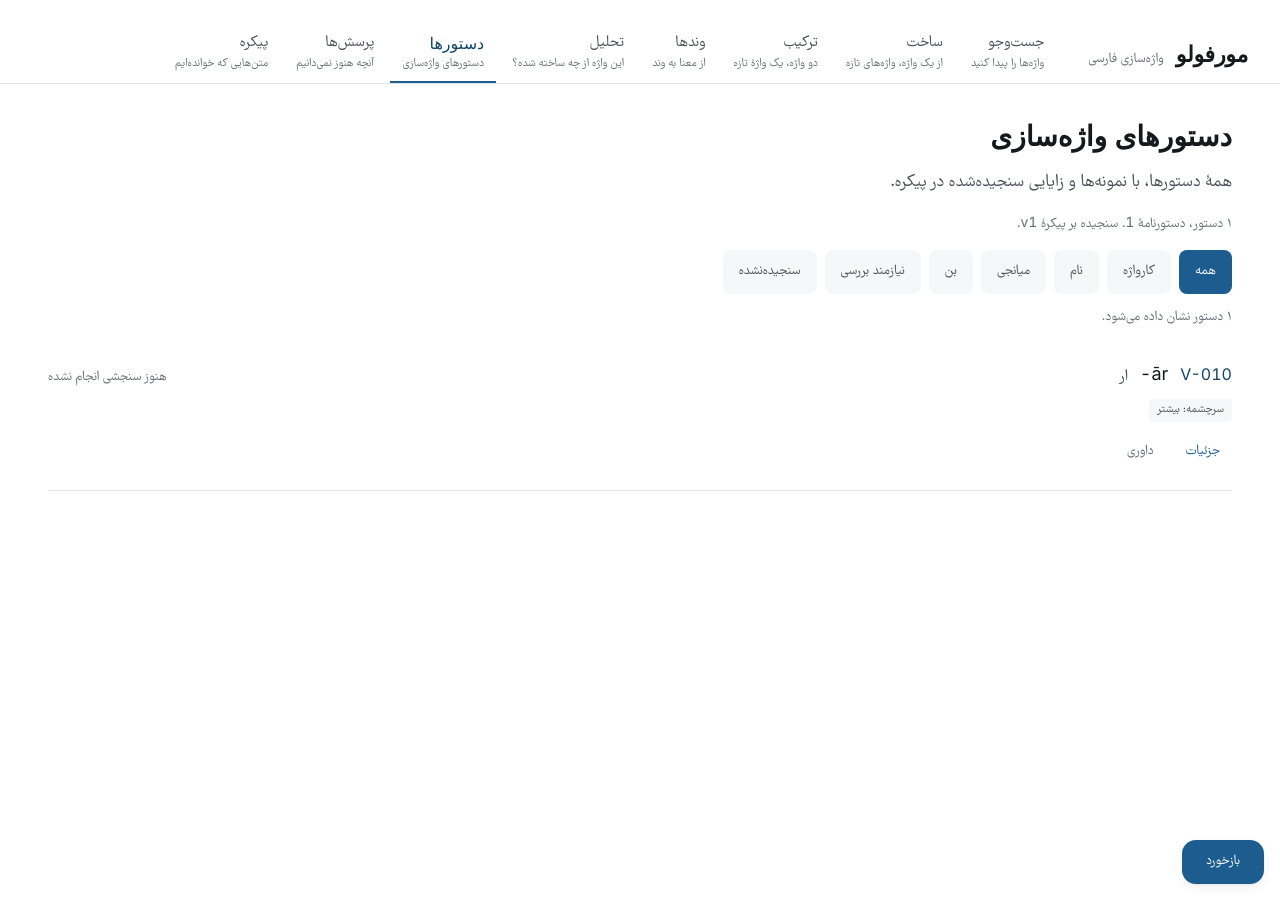
Test: when the caller may grade a word › chooses the category first and the form adapts
Click the button with aria-label "داوری دربارهٔ دستور V-010".
click(1140, 452)  # box [1115,430,1166,474]
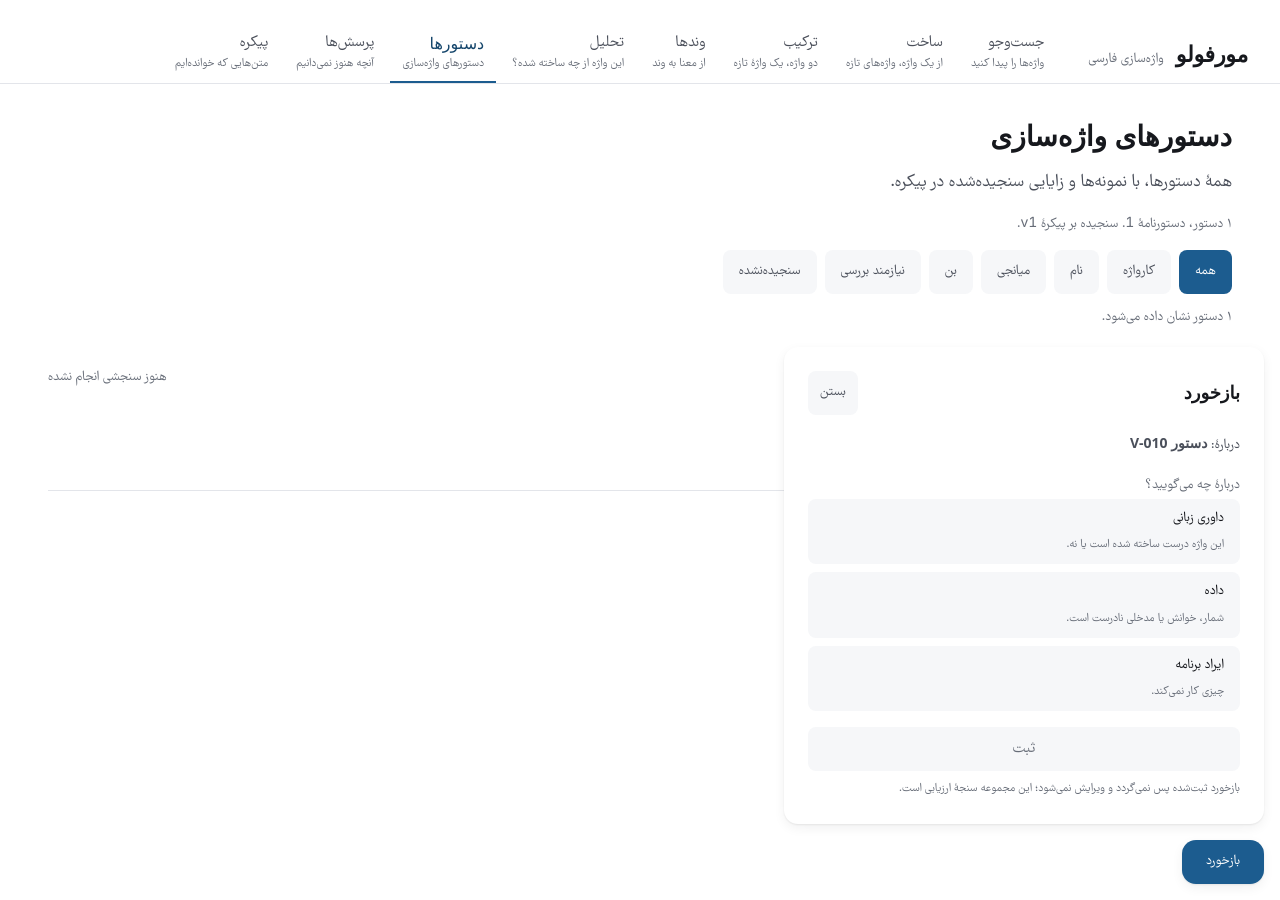
Check: the text "نیاز به گفت‌وگو" is not shown
Click the button "داوری زبانی این واژه درست ساخته شده است یا نه.".
click(1198, 518)  # box [808,498,1240,564]
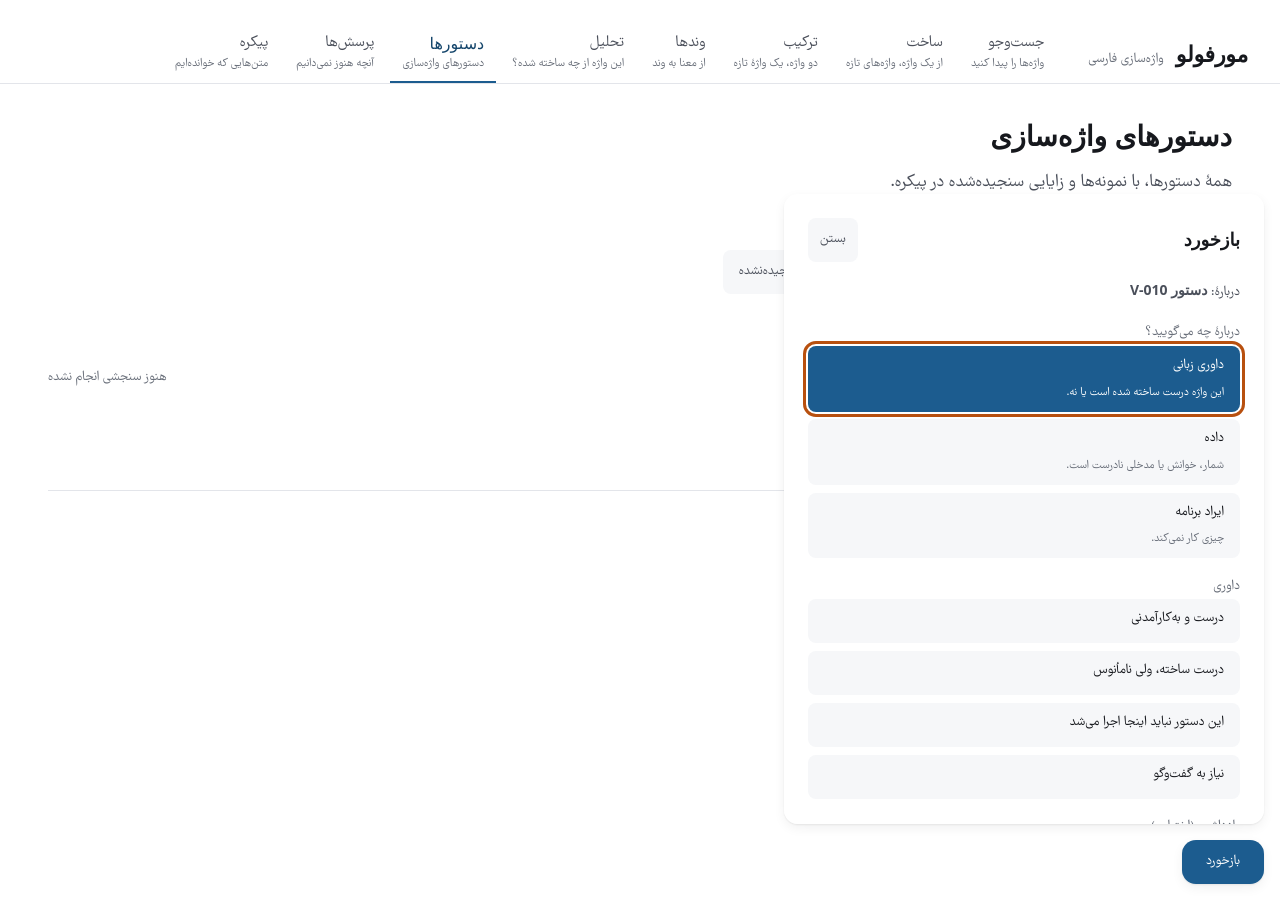
Check: the button "نیاز به گفت‌وگو" is shown, box [808,755,1240,799]
Click the button "ایراد برنامه چیزی کار نمی‌کند.".
click(1200, 512)  # box [808,493,1240,558]
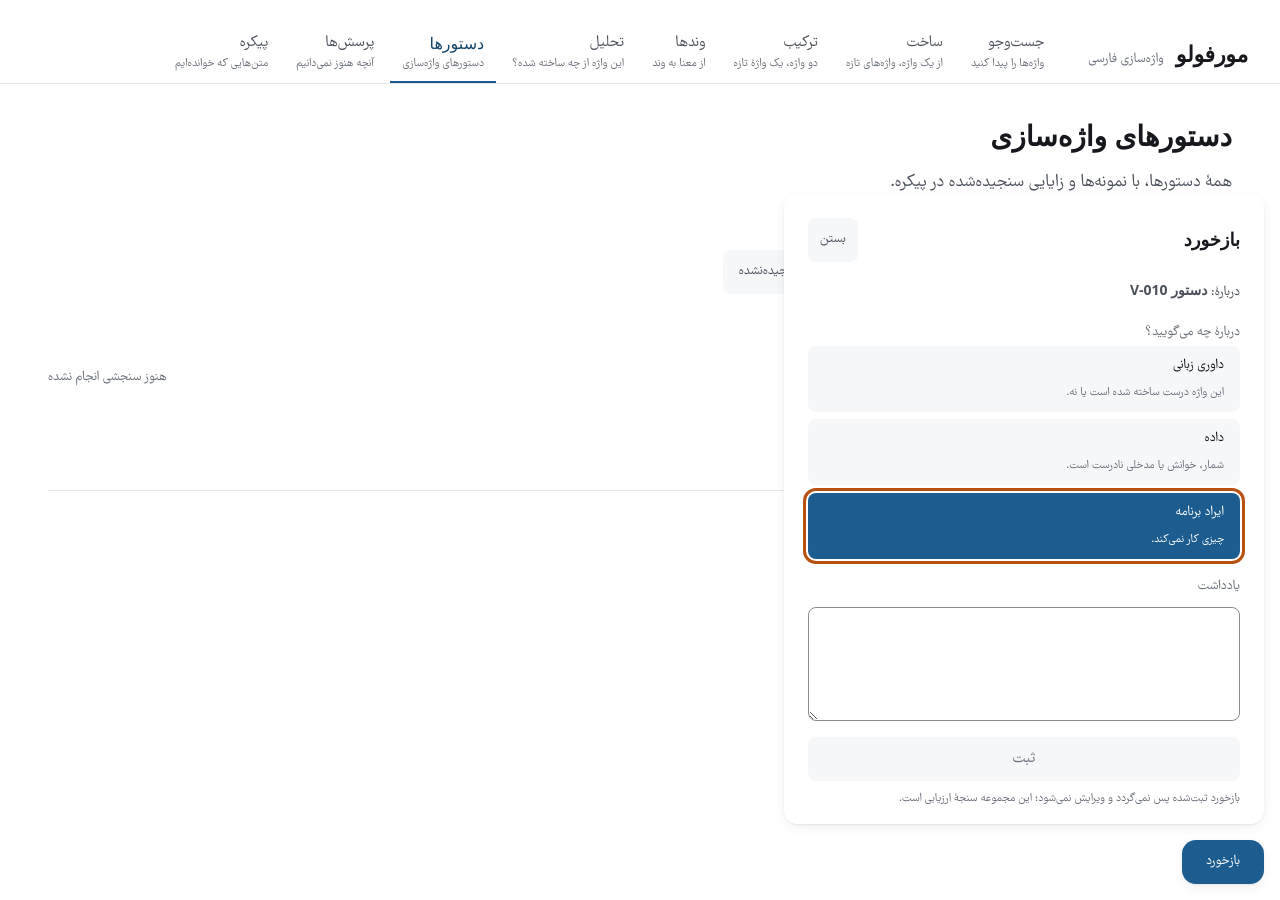
Check: the button "نیاز به گفت‌وگو" is gone
